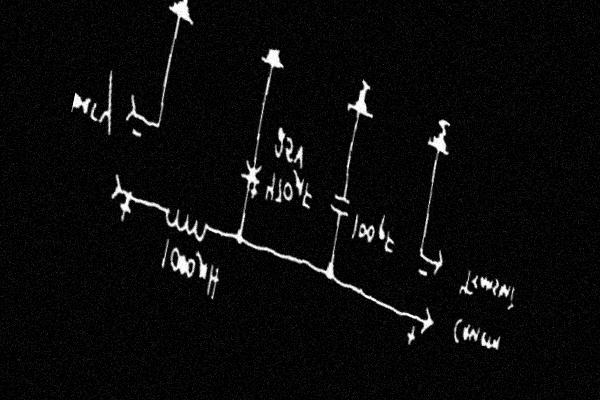capacitor: (324, 178, 356, 229), (235, 150, 267, 195)
ground: (340, 68, 383, 138), (420, 108, 459, 170), (160, 0, 203, 39), (255, 38, 290, 85)
inductor: (157, 200, 217, 251)
